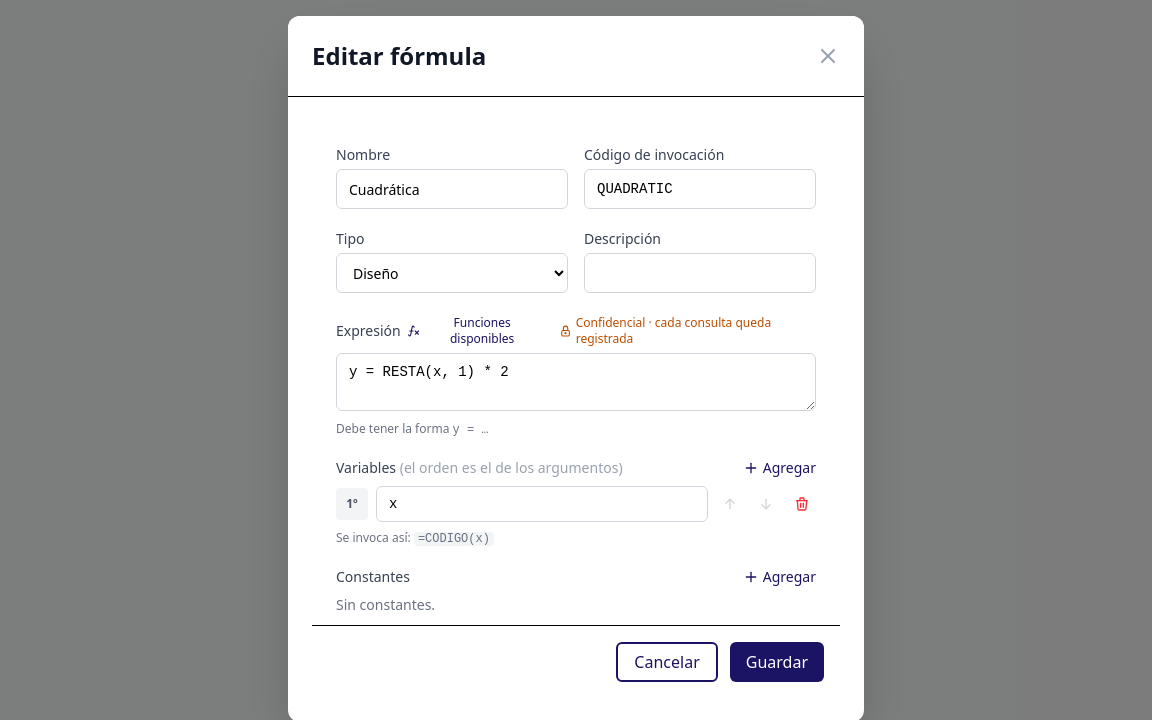
it: una fórmula que invoca a otra › un error de composición se muestra junto a la expresión, sin perder lo escrito
Replace the text in the text box with placeholder "y = x^2 + CONST_1" with "y = RESTA(x, 2)" at (576,382), box [336,353,816,411]
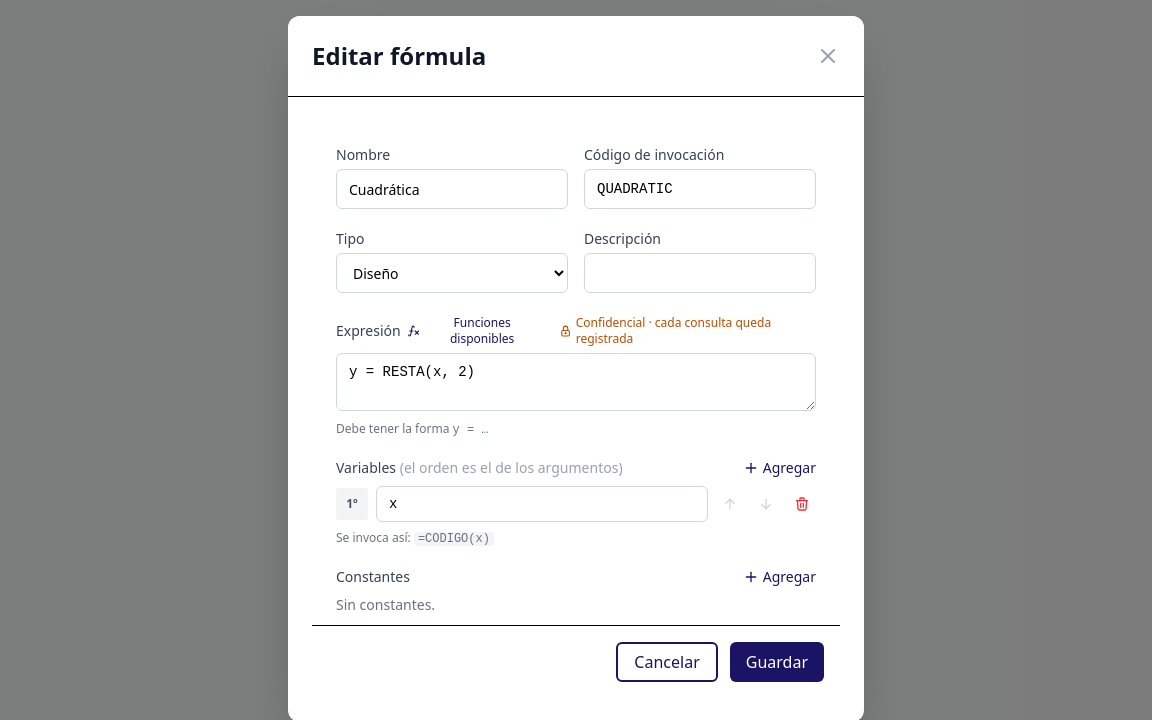
Click the button "Guardar" at (777,662), box [730,642,824,682]
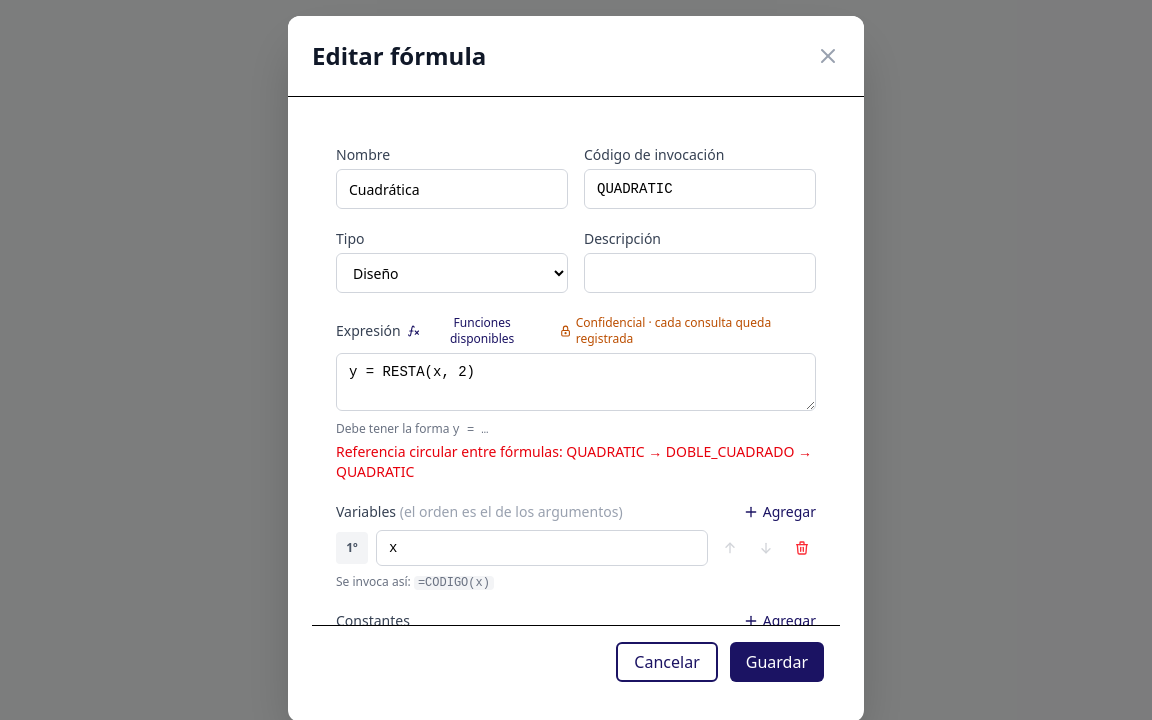
Check: the message shows "QUADRATIC → DOBLE_CUADRADO → QUADRATIC", box [336,442,812,481]
Replace the text in the text box with placeholder "y = x^2 + CONST_1" with "y = RESTA(x, 3)" at (576,382), box [336,353,816,411]
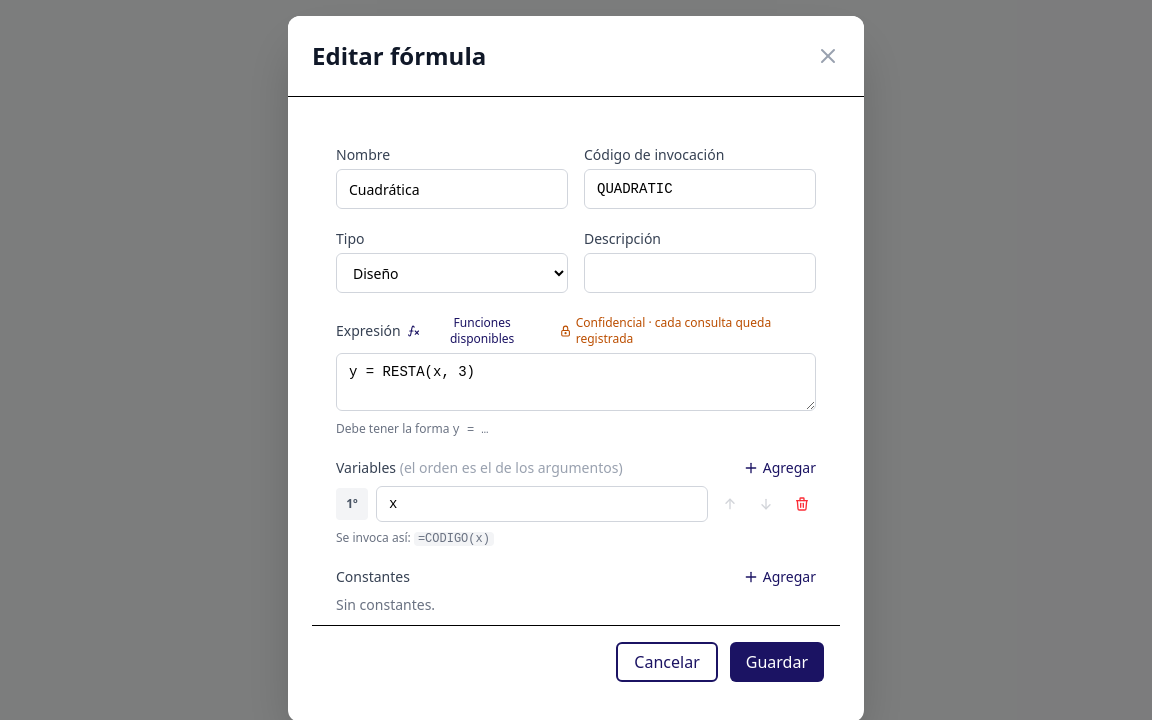
Check: the message "Referencia circular entre fórmulas: QUADRATIC → DOBLE_CUADRADO → QUADRATIC" is gone
